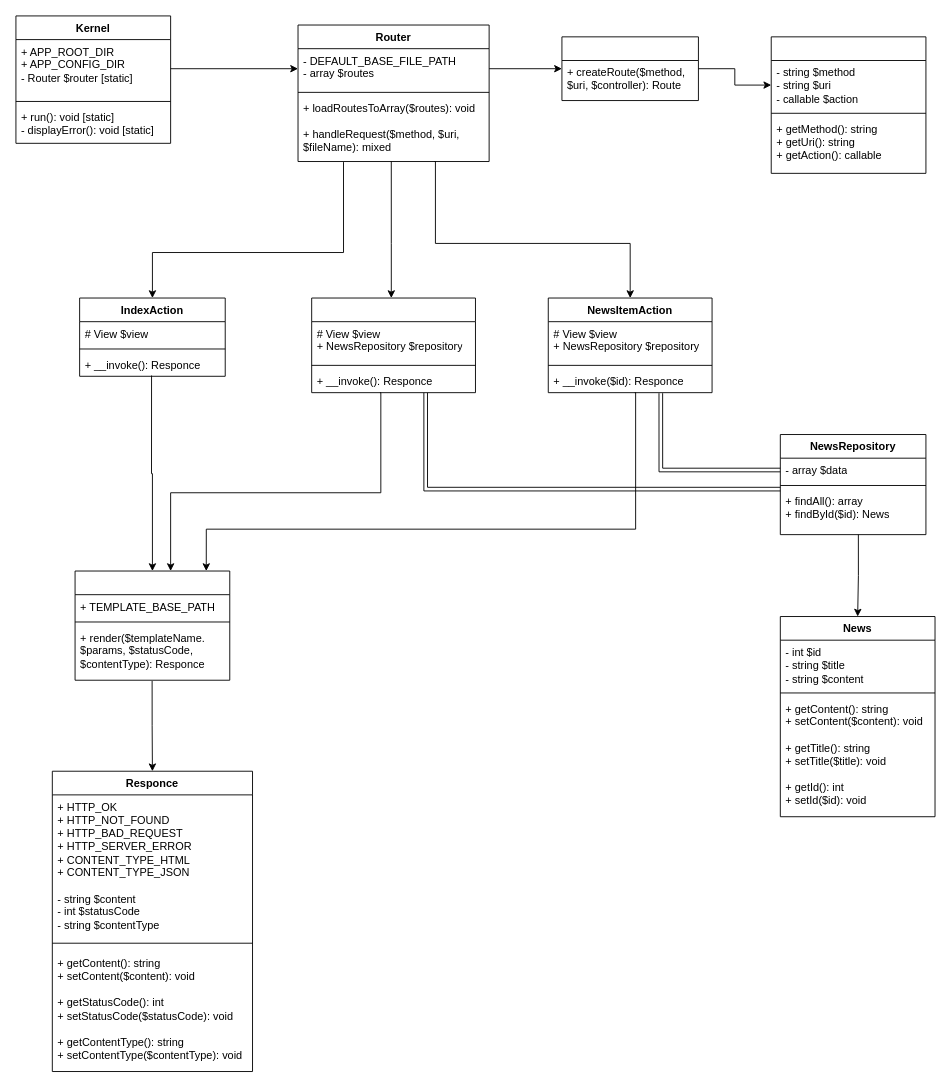
This 951x1090 diagram has some shape labels left out. Each missing label, with the box of its shape:
NewsAction: (311, 297, 475, 393)
Route: (770, 36, 926, 173)
RouteFactory: (561, 36, 698, 101)
View: (74, 570, 230, 680)
